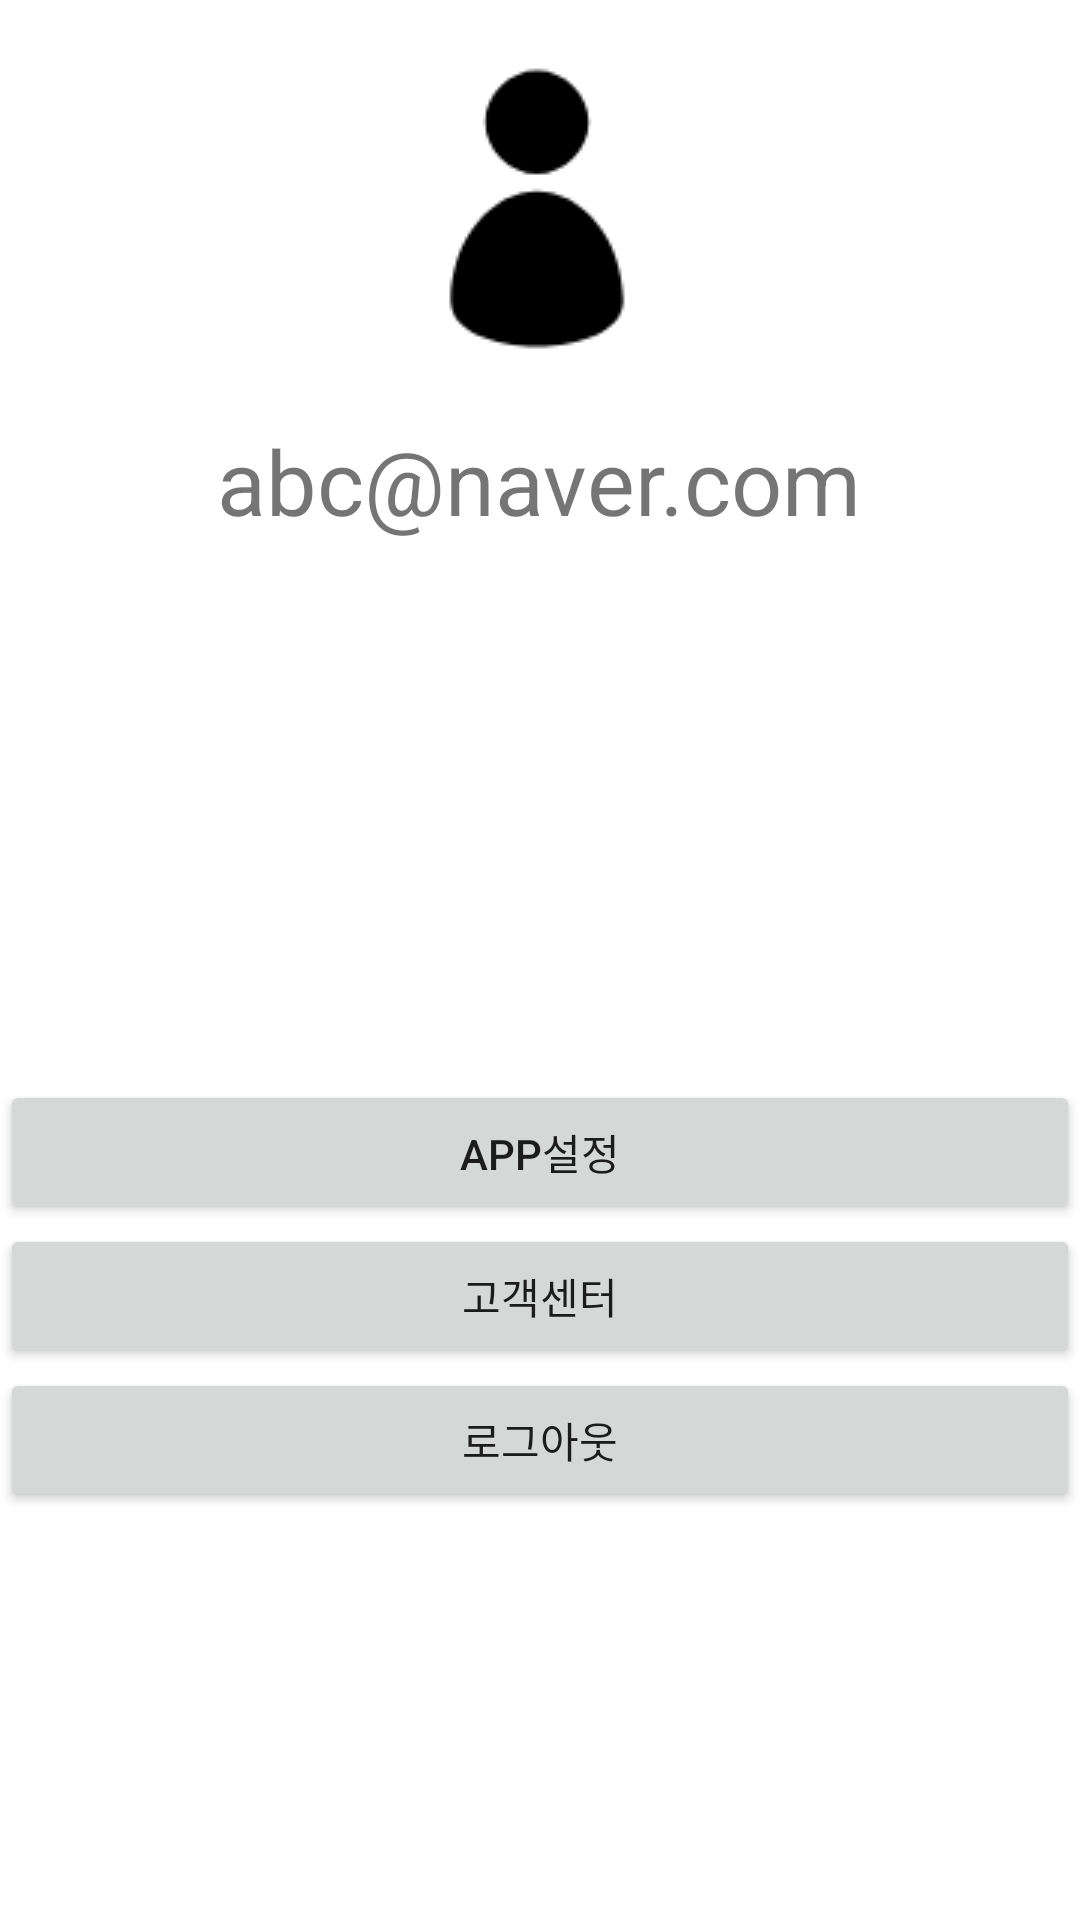

Where to tap for icons on this 1080px x 1920px app screen, as (x,y):
mypage: (537,208)
